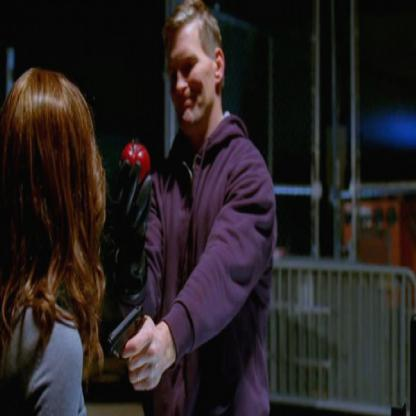Guns: (103, 297, 157, 384)
